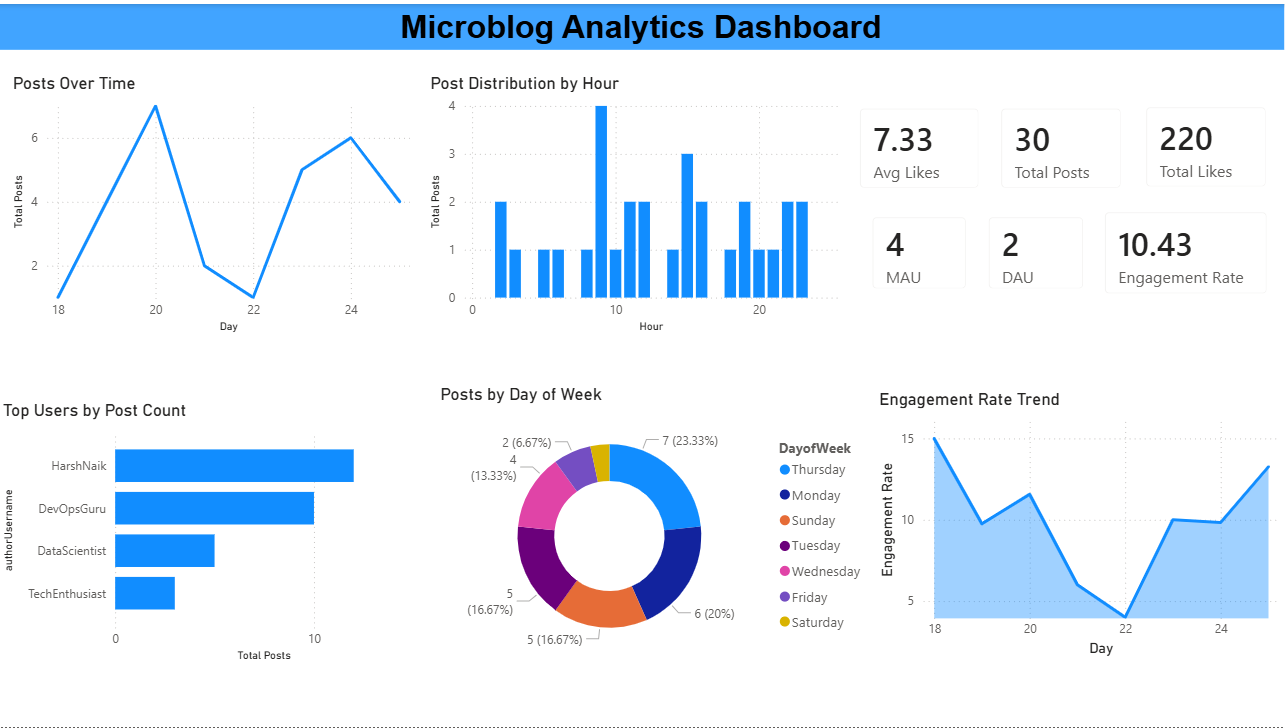

The page's visual inventory and layout, read from the dashboard file:
{"tool":"powerbi","page":{"name":"Page 1","canvas":[1280,720],"ordinal":0},"visuals":[{"type":"cardVisual","fields":{"Data":["analytics_data.Total Posts"]},"box":[981.2,87.5,153.8,113.8],"z":0},{"type":"cardVisual","fields":{"Data":["analytics_data.Engagement Rate"]},"box":[1085,190,195,115],"z":1000},{"type":"cardVisual","fields":{"Data":["analytics_data.Total Likes"]},"box":[1126.2,86.2,153.8,113.8],"z":2000},{"type":"cardVisual","fields":{"Data":["analytics_data.Avg Likes"]},"box":[841.2,87.5,152.5,113.8],"z":3000},{"type":"cardVisual","fields":{"Data":["analytics_data.DAU"]},"box":[968.8,195,128.8,105],"z":4000},{"type":"cardVisual","fields":{"Data":["analytics_data.MAU"]},"box":[853.8,195,127.5,105],"z":5000},{"type":"lineChart","title":"Posts Over Time","fields":{"Category":["analytics_data.Date.Variation.Date Hierarchy.Day"],"Y":["analytics_data.Total Posts"]},"box":[10,68.8,405,263.8],"z":6000},{"type":"clusteredBarChart","title":"Top Users by Post Count","fields":{"Category":["analytics_data.authorUsername"],"Y":["analytics_data.Total Posts"]},"box":[0,394.4,425.6,265.6],"z":7000},{"type":"clusteredColumnChart","title":"Post Distribution by Hour","fields":{"Category":["analytics_data.Hour"],"Y":["analytics_data.Total Posts"]},"box":[425,68.8,416.2,263.8],"z":8000},{"type":"donutChart","title":"Posts by Day of Week","fields":{"Y":["analytics_data.Total Posts"],"Category":["analytics_data.DayofWeek"]},"box":[435,378.8,437.5,283.8],"z":9000},{"type":"areaChart","title":"Engagement Rate Trend","fields":{"Category":["analytics_data.Date.Variation.Date Hierarchy.Day"],"Y":["analytics_data.Engagement Rate"]},"box":[872.5,383.8,407.5,271.2],"z":9001},{"type":"textbox","box":[0,0,1280,45.7],"z":9002}]}

Visuals, with their boxes in screenshot pixels (x1, y1, x2, y2), scaled from the page's 1280x720 canvas onto the 1285x728 screenshot:
cardVisual - analytics_data.Total Posts: 985/88/1139/204
cardVisual - analytics_data.Engagement Rate: 1089/192/1284/308
cardVisual - analytics_data.Total Likes: 1131/87/1284/202
cardVisual - analytics_data.Avg Likes: 844/88/998/204
cardVisual - analytics_data.DAU: 973/197/1102/303
cardVisual - analytics_data.MAU: 857/197/985/303
"Posts Over Time" lineChart: 10/70/417/336
"Top Users by Post Count" clusteredBarChart: 0/399/427/667
"Post Distribution by Hour" clusteredColumnChart: 427/70/844/336
"Posts by Day of Week" donutChart: 437/383/876/670
"Engagement Rate Trend" areaChart: 876/388/1284/662
textbox: 0/0/1284/46
